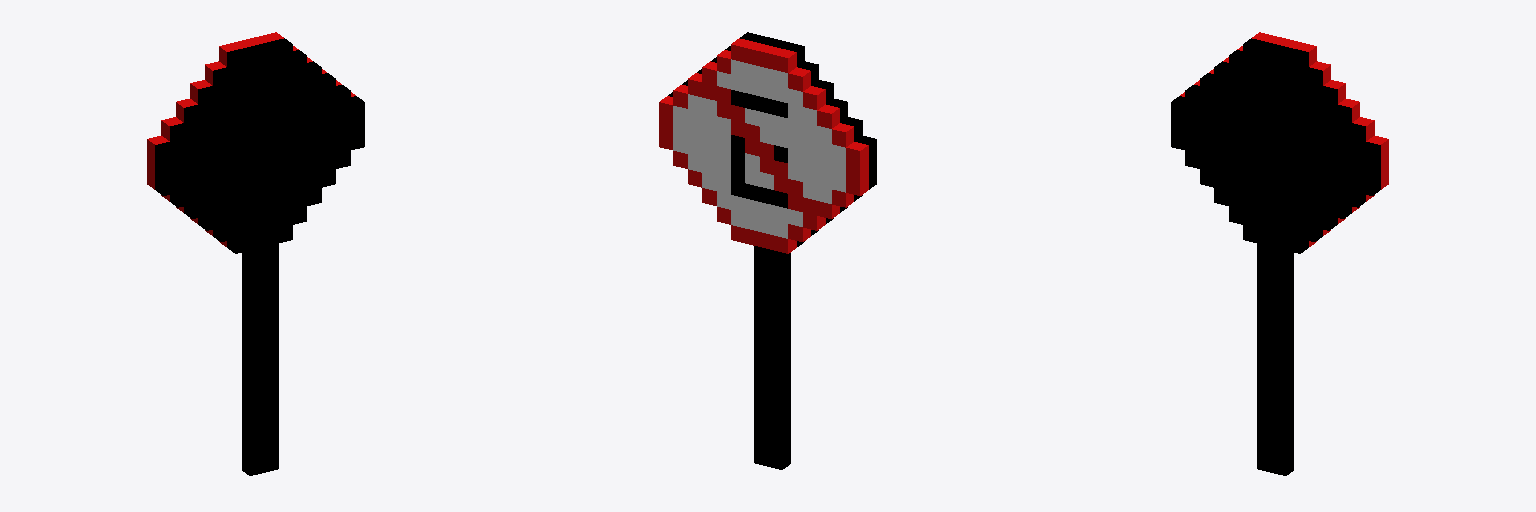
The picture shows the model from 3 angles: view 1: azimuth 30°, elevation 25°; view 2: azimuth 150°, elevation 25°; view 3: azimuth 330°, elevation 25°; orthographic projection.
Parts seen in each view (by area): view 1: object 1; view 2: object 1; view 3: object 1.
Boxes of the visible parts, x1,y1,x2,y2 form: object 1: [147, 32, 364, 475]; object 1: [659, 32, 876, 469]; object 1: [1171, 32, 1388, 475].
Bounding box in the file's own units: 1.4 × 2.8 × 0.2.
1 materials, 1 textured.